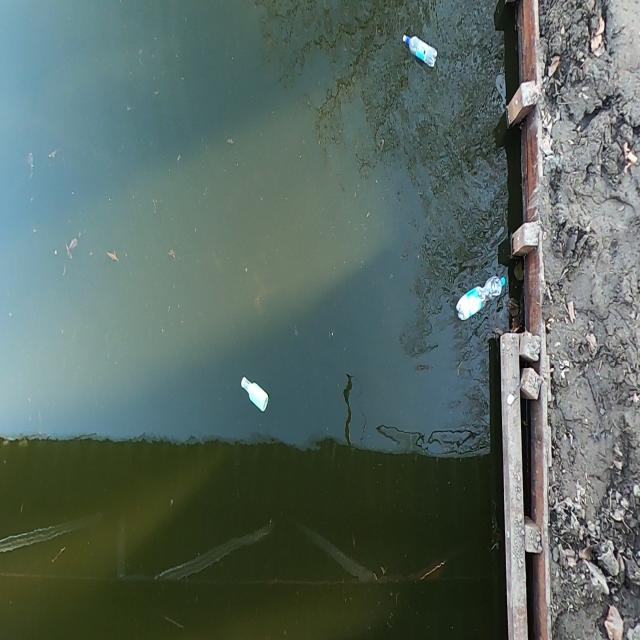Bouteille plastique: (458, 279, 504, 318), (404, 35, 437, 66), (242, 379, 267, 410)
